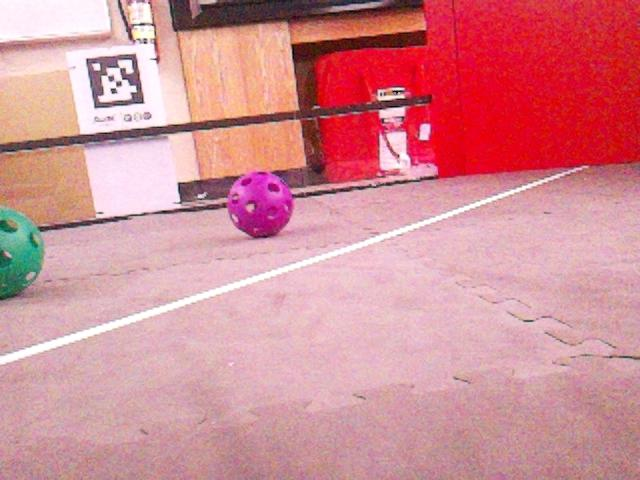Green: (0, 204, 45, 301)
Purple: (225, 169, 294, 237)
